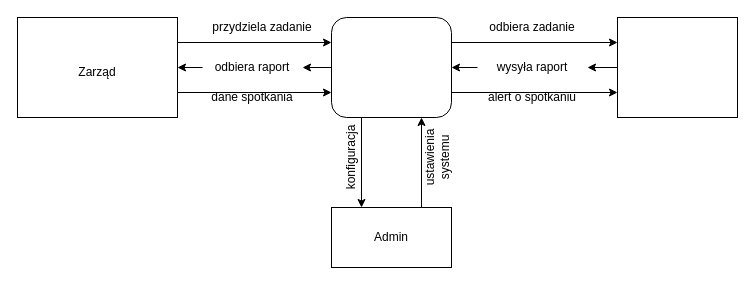
Some shapes in this 755 by 285 pixel diagram are drawn without their labels. Here are the shapes that lost their labels. From the top down, the centre of each, then its label:
point 391,67: SYSTEM
point 677,67: Pracownik
